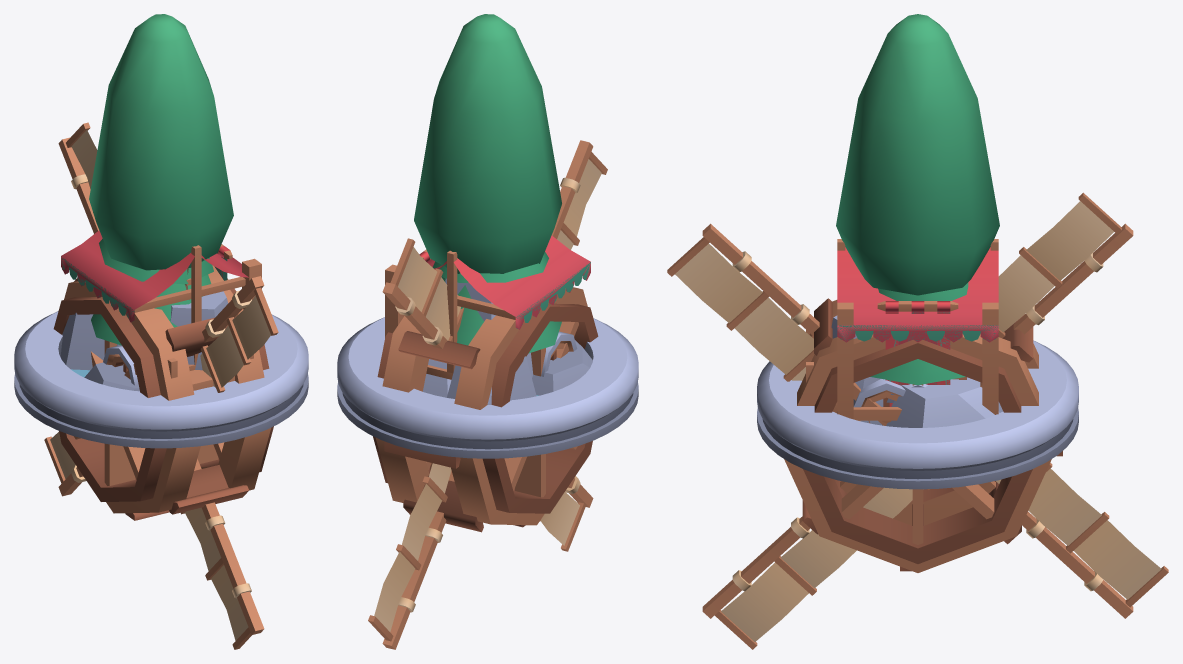
File: town.glb
3 renders of one model, left to right at view 1: azimuth 30°, elevation 25°; view 2: azimuth 150°, elevation 25°; view 3: azimuth 270°, elevation 25°, orthographic. The views are drawn at different scales.
Parts seen in each view (by area): view 1: tree-high-round~0, fountain-round~mesh, watermill-wide~0, windmill~0, stall-red~0, watermill~0, rock-large~0, tree-crooked~0, stall-green~0, cart~2, cart~mesh; view 2: tree-high-round~0, fountain-round~mesh, watermill-wide~0, windmill~0, watermill~0, stall-red~0, rock-large~0, tree-crooked~0, stall-green~0, poles~0, cart~2; view 3: windmill~0, tree-high-round~0, fountain-round~mesh, watermill-wide~0, stall-red~0, watermill~0, rock-large~0, poles~0, tree-crooked~0, stall-green~0, banner-red~0, cart~1.
Part boxes in pixels (bbox=[...]): tree-high-round~0: bbox=[89, 14, 233, 270]; fountain-round~mesh: bbox=[14, 311, 308, 448]; watermill-wide~0: bbox=[53, 265, 273, 520]; windmill~0: bbox=[44, 122, 278, 649]; stall-red~0: bbox=[61, 230, 248, 370]; watermill~0: bbox=[83, 308, 257, 517]; rock-large~0: bbox=[60, 291, 228, 391]; tree-crooked~0: bbox=[91, 238, 213, 345]; stall-green~0: bbox=[61, 256, 134, 321]; cart~2: bbox=[103, 345, 138, 385]; cart~mesh: bbox=[167, 354, 253, 390]; tree-high-round~0: bbox=[414, 14, 561, 273]; fountain-round~mesh: bbox=[337, 317, 638, 458]; watermill-wide~0: bbox=[373, 287, 598, 532]; windmill~0: bbox=[368, 140, 607, 649]; watermill~0: bbox=[392, 315, 577, 525]; stall-red~0: bbox=[426, 235, 590, 379]; rock-large~0: bbox=[422, 278, 592, 404]; tree-crooked~0: bbox=[432, 252, 561, 353]; stall-green~0: bbox=[516, 262, 590, 328]; poles~0: bbox=[385, 264, 404, 337]; cart~2: bbox=[541, 331, 577, 376]; windmill~0: bbox=[667, 192, 1168, 649]; tree-high-round~0: bbox=[836, 14, 999, 295]; fountain-round~mesh: bbox=[757, 340, 1078, 489]; watermill-wide~0: bbox=[784, 298, 1062, 572]; stall-red~0: bbox=[837, 239, 998, 342]; watermill~0: bbox=[797, 306, 1038, 539]; rock-large~0: bbox=[831, 315, 1003, 427]; poles~0: bbox=[837, 302, 998, 419]; tree-crooked~0: bbox=[870, 282, 968, 385]; stall-green~0: bbox=[837, 325, 998, 341]; banner-red~0: bbox=[877, 301, 958, 406]; cart~1: bbox=[853, 379, 905, 423].
Bounding box in the file's own units: 2 × 4.31 × 3.11.
2 materials, 1 textured.
